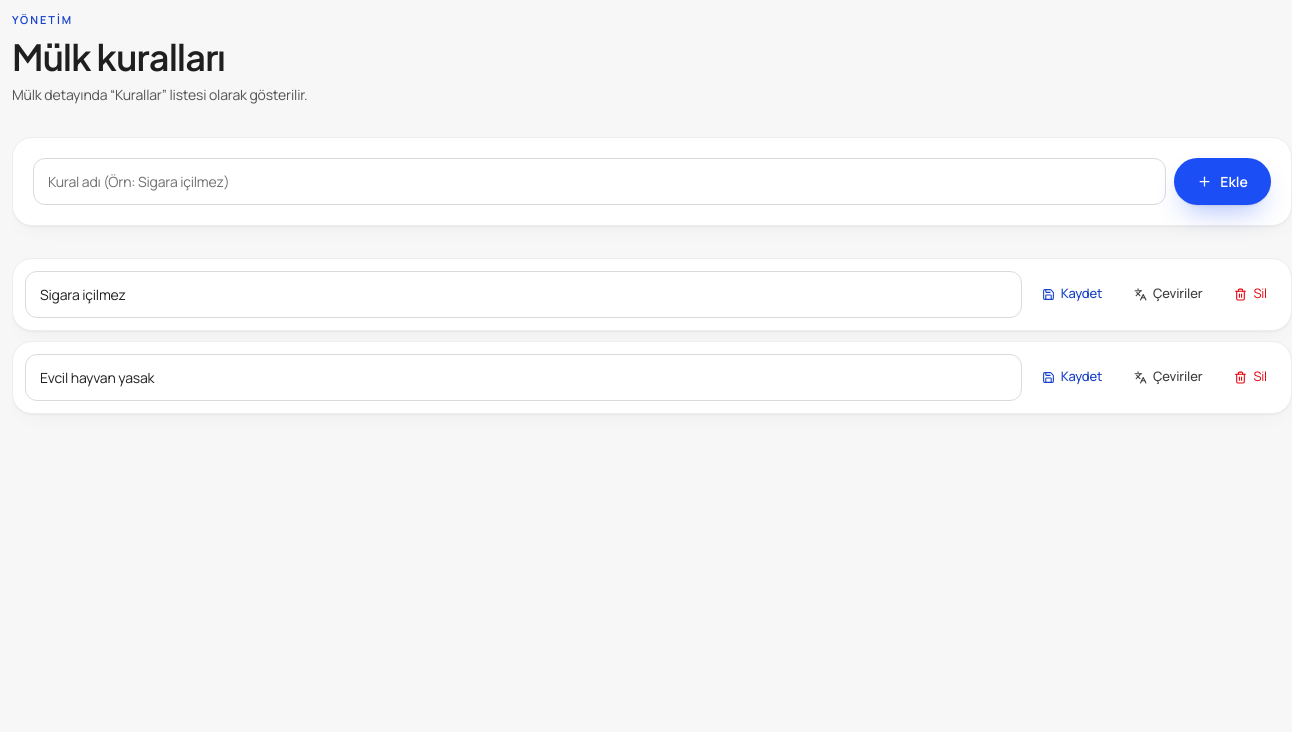
Scenario: RulesPage — Phase 10D Batch 3 — panel açma/kapama + tab mekaniği › 6) İkinci satıra basınca önceki panel kapanır (tek panel açık)
Click the button with aria-label "çevirileri" at {"x": 1168, "y": 294}, box [1122, 276, 1214, 312]
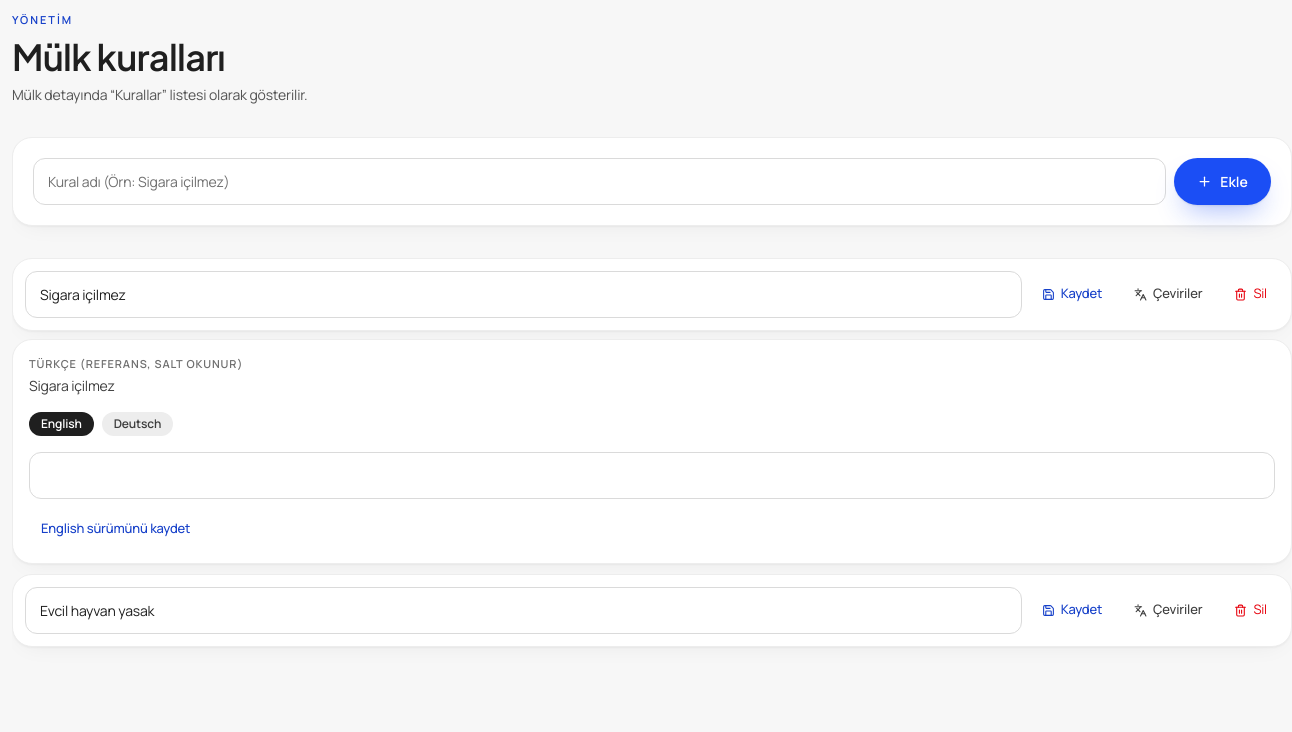
Click the button with aria-label "çevirileri" at {"x": 1168, "y": 610}, box [1122, 592, 1214, 628]
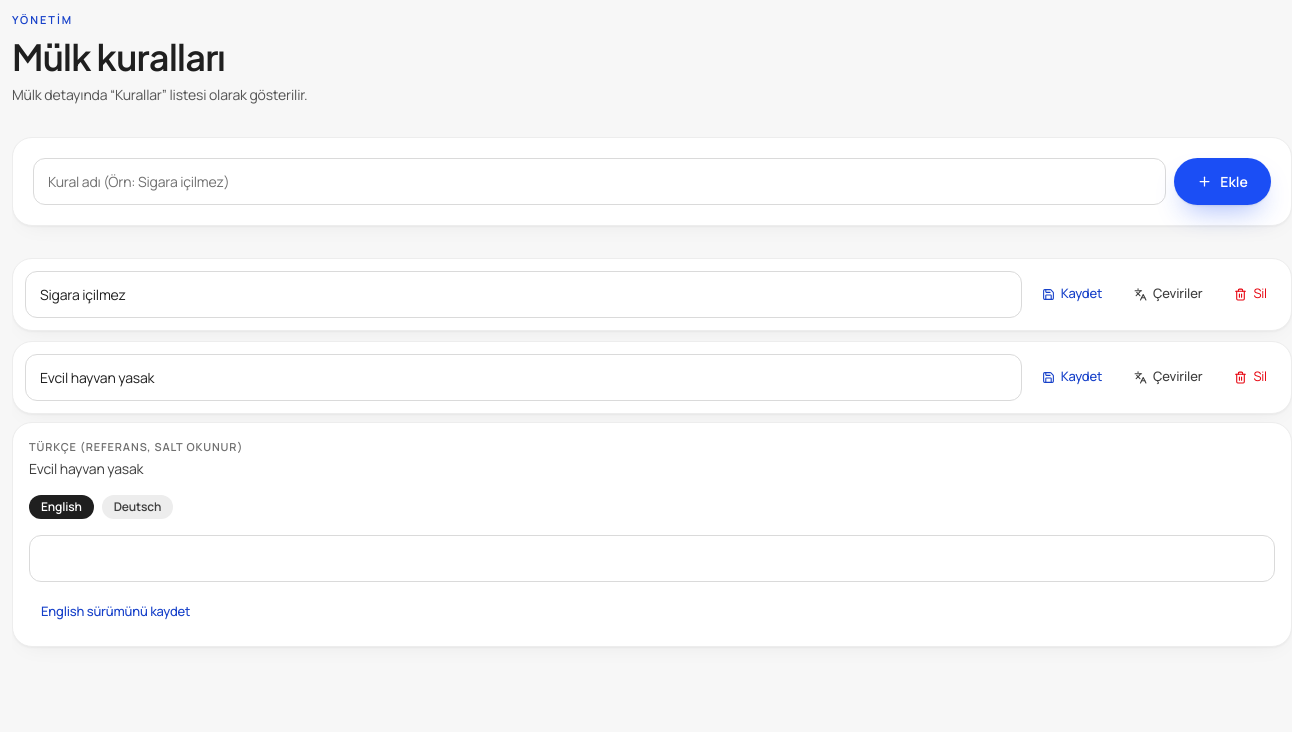
expect the text "Türkçe (referans, salt okunur)" is shown once: met, box [29, 438, 243, 454]
expect the text "Evcil hayvan yasak" is shown: met, box [29, 459, 143, 478]
